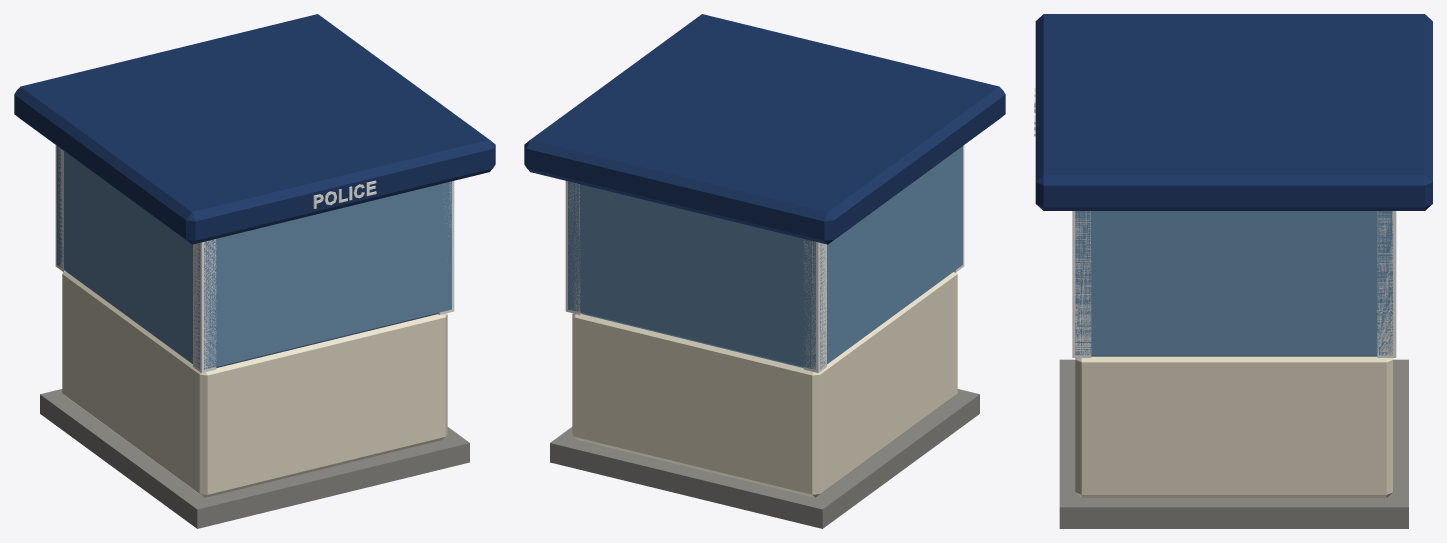
File: PD_GuardBooth.fbx
The picture shows the model from 3 angles, left to right: view 1: azimuth 30°, elevation 25°; view 2: azimuth 150°, elevation 25°; view 3: azimuth 270°, elevation 25°; orthographic projection. The views are drawn at different scales.
Visible parts, largest first — view 1: PD_GuardBooth_Mesh; view 2: PD_GuardBooth_Mesh; view 3: PD_GuardBooth_Mesh.
Part boxes in pixels (x1,y1,x2,y2): PD_GuardBooth_Mesh: [14, 14, 495, 528]; PD_GuardBooth_Mesh: [524, 14, 1005, 528]; PD_GuardBooth_Mesh: [1034, 14, 1432, 528].
Size of the model in its own units: 2.5 by 2.51 by 2.51.
